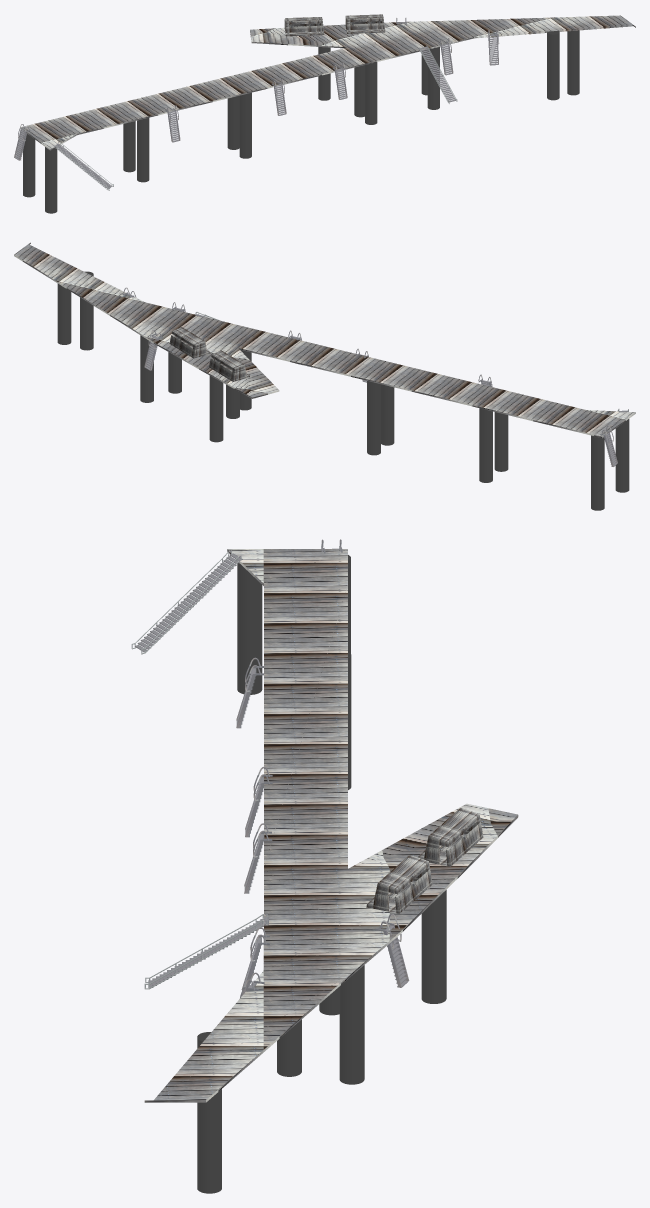
Rendered from Strandpark.glb.
The picture shows the model from 3 angles, top to bottom: view 1: azimuth 30°, elevation 25°; view 2: azimuth 150°, elevation 25°; view 3: azimuth 270°, elevation 25°; orthographic projection. The views are drawn at different scales.
Visible parts, largest first — view 1: Cube, Cylinder.012, Cube.003 (×2), Cylinder.011, Cylinder, Cylinder.004, Cylinder.003, Cylinder.006, Cylinder.001, Cube.002, Cube.001, Cylinder.008 (+4 smaller); view 2: Cube, Cylinder.001, Cylinder.002, Cylinder, Cylinder.005, Cylinder.010, Cylinder.003, Cylinder.011, Cylinder.004, Cube.002, Cube.001, Cylinder.009 (+3 smaller); view 3: Cube, Cylinder, Cylinder.009, Cylinder.010, Cylinder.011, Cube.003 (×2), Cube.002, Cube.001, Cylinder.008.
Boxes of the visible parts, box(x1,y1,x2,y2) form: Cube: box(20, 15, 635, 150); Cylinder.012: box(547, 30, 559, 100); Cube.003 (×2): box(54, 47, 455, 189); Cylinder.011: box(567, 29, 579, 95); Cylinder: box(45, 147, 57, 213); Cylinder.004: box(239, 92, 251, 158); Cylinder.003: box(137, 118, 149, 182); Cylinder.006: box(365, 62, 377, 124); Cylinder.001: box(23, 134, 35, 197); Cube.002: box(345, 14, 385, 33); Cube.001: box(284, 17, 324, 36); Cylinder.008: box(427, 47, 439, 109); Cube: box(14, 242, 635, 438); Cylinder.001: box(591, 435, 604, 510); Cylinder.002: box(479, 408, 492, 482); Cylinder: box(615, 419, 629, 492); Cylinder.005: box(367, 381, 380, 455); Cylinder.010: box(209, 376, 223, 442); Cylinder.003: box(494, 412, 508, 471); Cylinder.011: box(57, 283, 71, 344); Cylinder.004: box(381, 384, 394, 445); Cube.002: box(169, 327, 210, 358); Cube.001: box(209, 350, 249, 381); Cylinder.009: box(140, 335, 153, 402); Cube: box(144, 549, 518, 1102); Cylinder: box(237, 563, 262, 694); Cylinder.009: box(339, 965, 364, 1084); Cylinder.010: box(421, 890, 446, 1003); Cylinder.011: box(197, 1089, 221, 1193); Cube.003 (×2): box(134, 553, 268, 987); Cube.002: box(366, 855, 432, 913); Cube.001: box(418, 808, 483, 866); Cylinder.008: box(277, 1019, 301, 1076).
Size of the model in its own units: 159 by 21.81 by 46.61.
5 materials, 4 textured.
